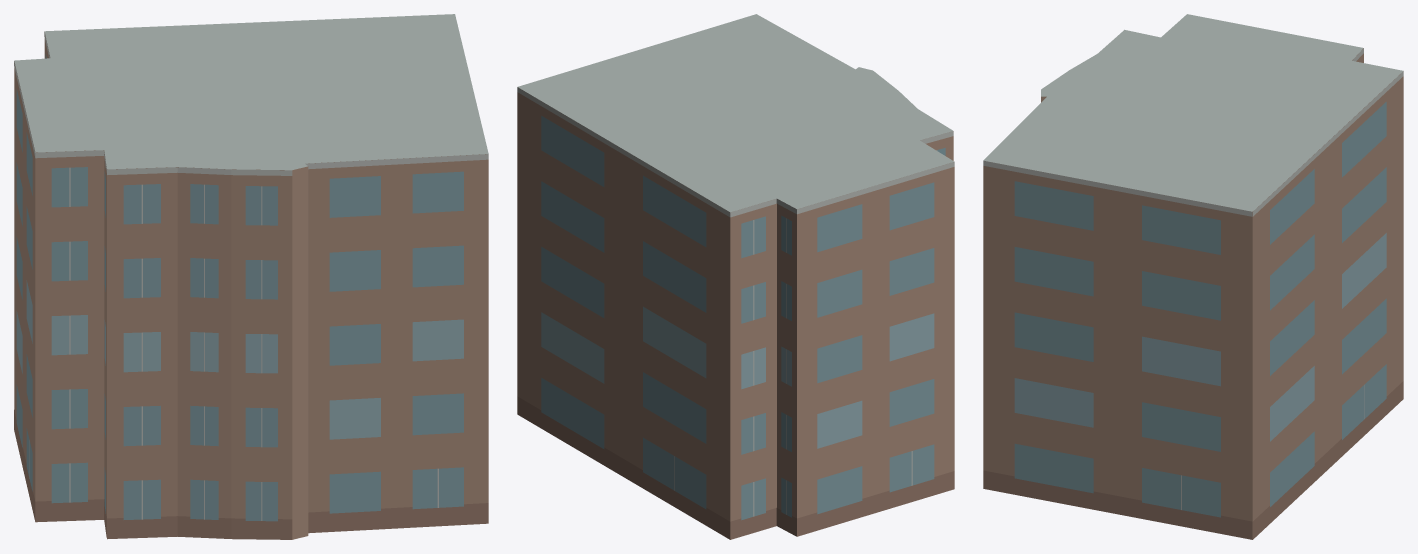
The model's file is survey-upis-32478244.glb.
3 views of the same model, side by side, from view 1: azimuth 30°, elevation 25°; view 2: azimuth 150°, elevation 25°; view 3: azimuth 270°, elevation 25° (orthographic). The views are drawn at different scales.
Visible parts, largest first — view 1: survey-upis-32478244.tmp; view 2: survey-upis-32478244.tmp; view 3: survey-upis-32478244.tmp.
Part boxes in pixels (bbox=[...]): survey-upis-32478244.tmp: bbox=[14, 14, 488, 539]; survey-upis-32478244.tmp: bbox=[517, 14, 954, 539]; survey-upis-32478244.tmp: bbox=[983, 14, 1403, 539].
Size of the model in its own units: 20.3 by 15.7 by 18.24.
